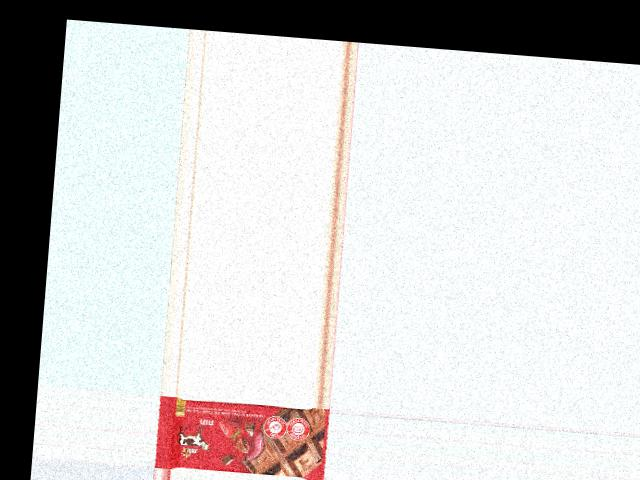chocolate: (153, 395, 329, 480)
